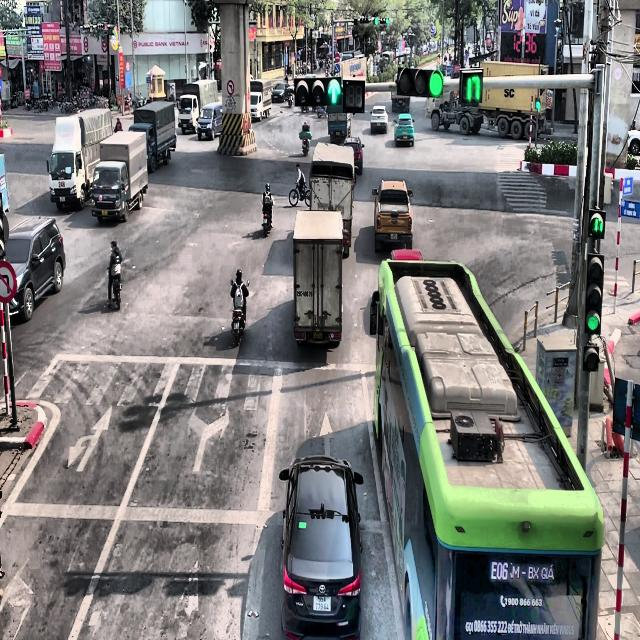BUS: (370, 249, 604, 639)
CAR: (279, 454, 363, 639), (2, 216, 66, 323), (372, 179, 413, 253), (196, 102, 223, 140), (343, 136, 364, 175), (394, 113, 414, 147), (370, 105, 388, 133), (270, 82, 290, 102), (317, 105, 327, 118)
MOTORBIKE: (230, 279, 249, 346), (107, 267, 121, 310), (289, 179, 310, 206), (262, 199, 273, 237), (302, 136, 310, 156)
TRAFFIC_LIGHT: (584, 250, 604, 334), (396, 66, 444, 98), (459, 68, 483, 106), (588, 208, 606, 238), (374, 15, 389, 26)
TRUCK: (292, 209, 344, 347), (46, 106, 114, 210), (90, 130, 148, 223), (132, 100, 177, 173)
